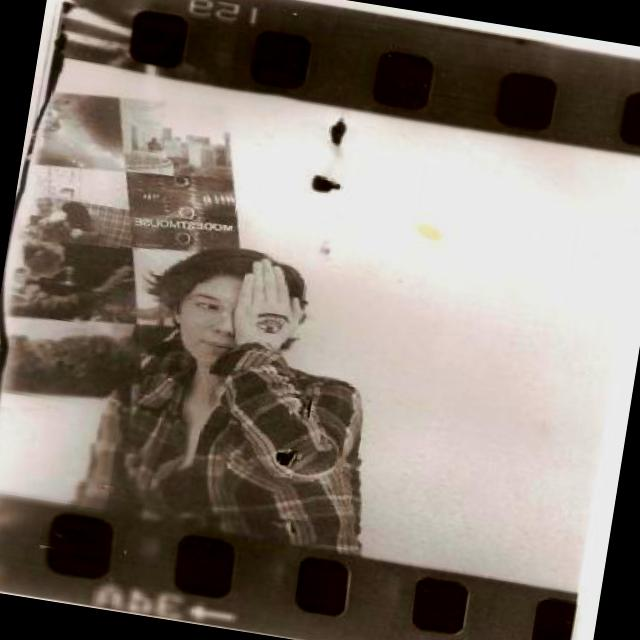Person: (69, 229, 406, 558)
